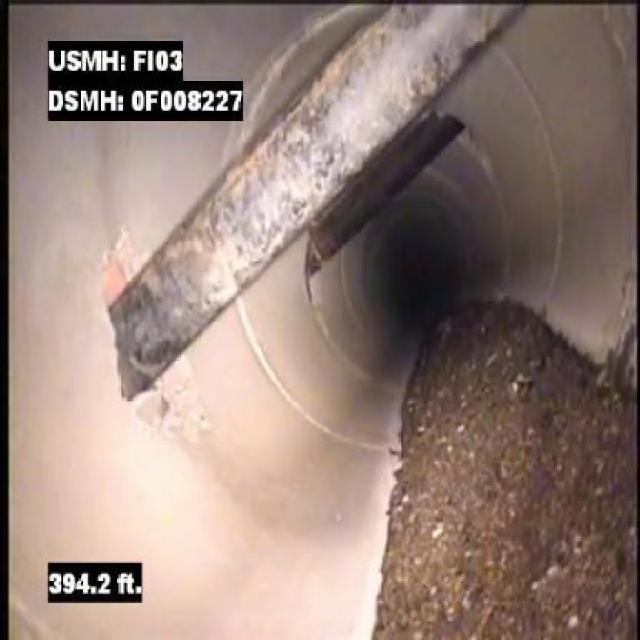Debris: (363, 317, 639, 629)
Utility intrusion: (109, 123, 300, 409)
